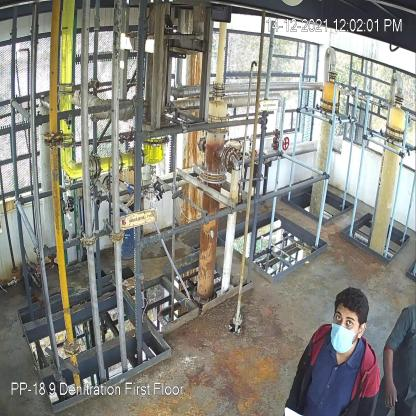no_goggles: (333, 310, 357, 328)
